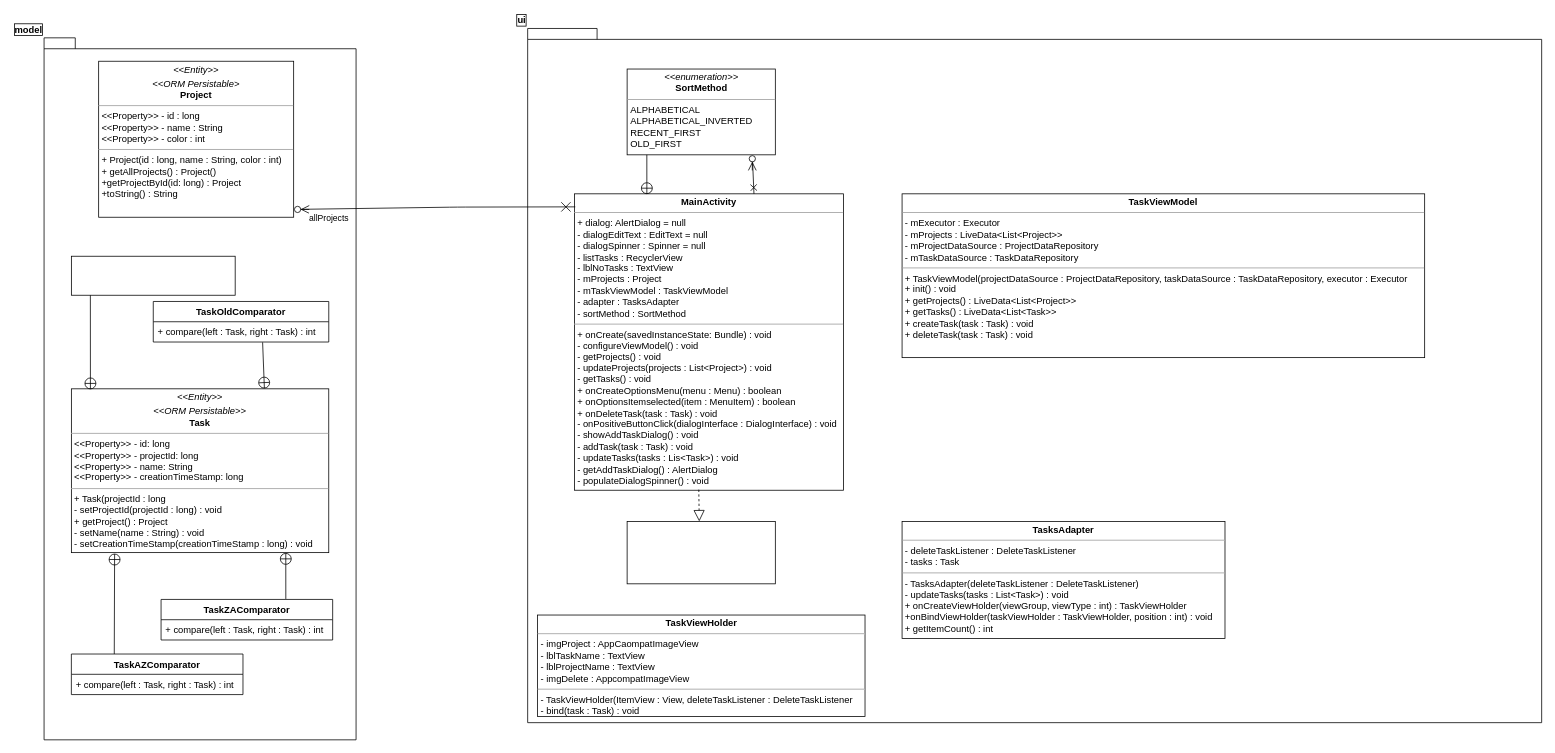
This 1555x753 diagram has some shape labels left out. The centre of each missing label's shape, as x and y in pixels:
"<<Interface>> DeleteTaskListener + onDeleteTask(task : Task) : void" goes at pixel 700 552.
"TaskRecentComparator + conpare(left : Task, right : Task) : int" goes at pixel 153 275.
